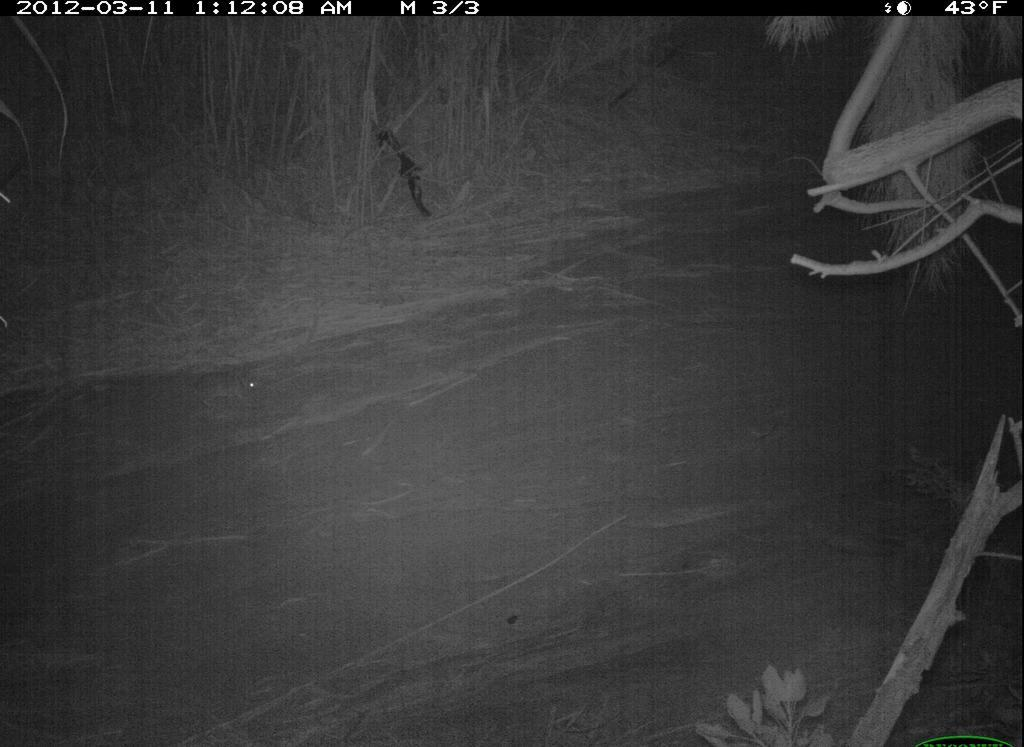rabbit: (186, 369, 263, 411)
